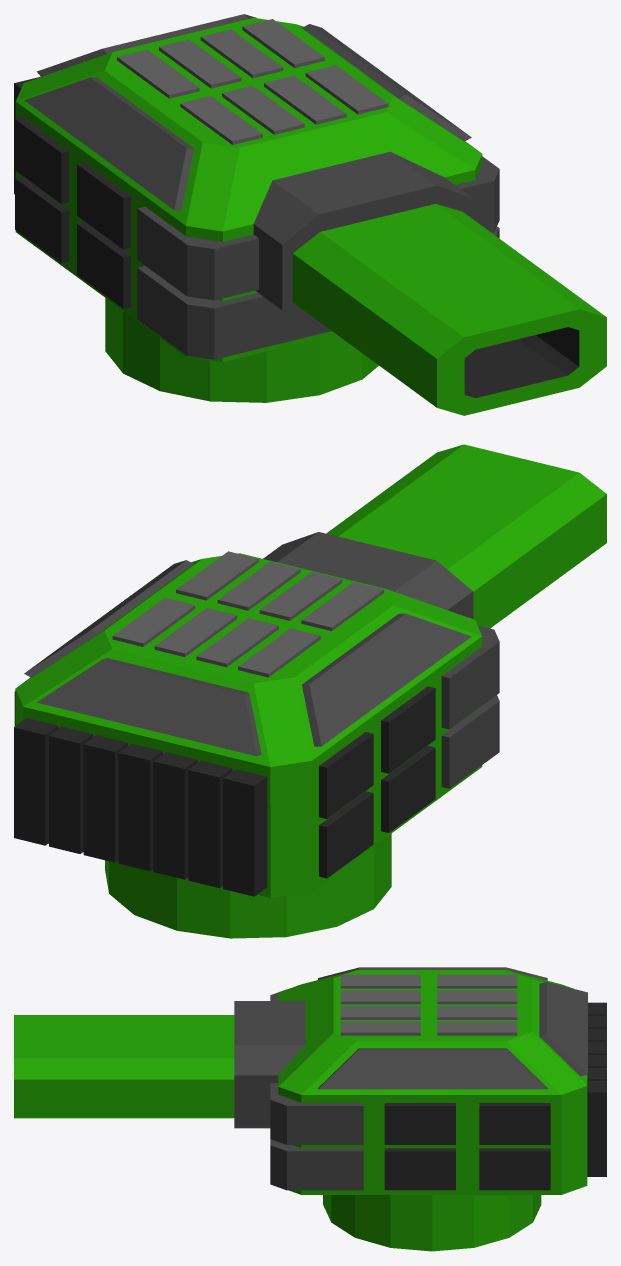
Rendered from Cabina4.fbx.
The picture shows the model from 3 angles, top to bottom: view 1: azimuth 30°, elevation 25°; view 2: azimuth 150°, elevation 25°; view 3: azimuth 270°, elevation 25°; orthographic projection. The views are drawn at different scales.
Visible parts, largest first — view 1: Gun_24.001; view 2: Gun_24.001; view 3: Gun_24.001.
Boxes of the visible parts, x1,y1,x2,y2 form: Gun_24.001: (14,14,606,415); Gun_24.001: (14,444,606,938); Gun_24.001: (14,967,606,1251).
Bounding box in the file's own units: 98.72 × 79.63 × 212.
